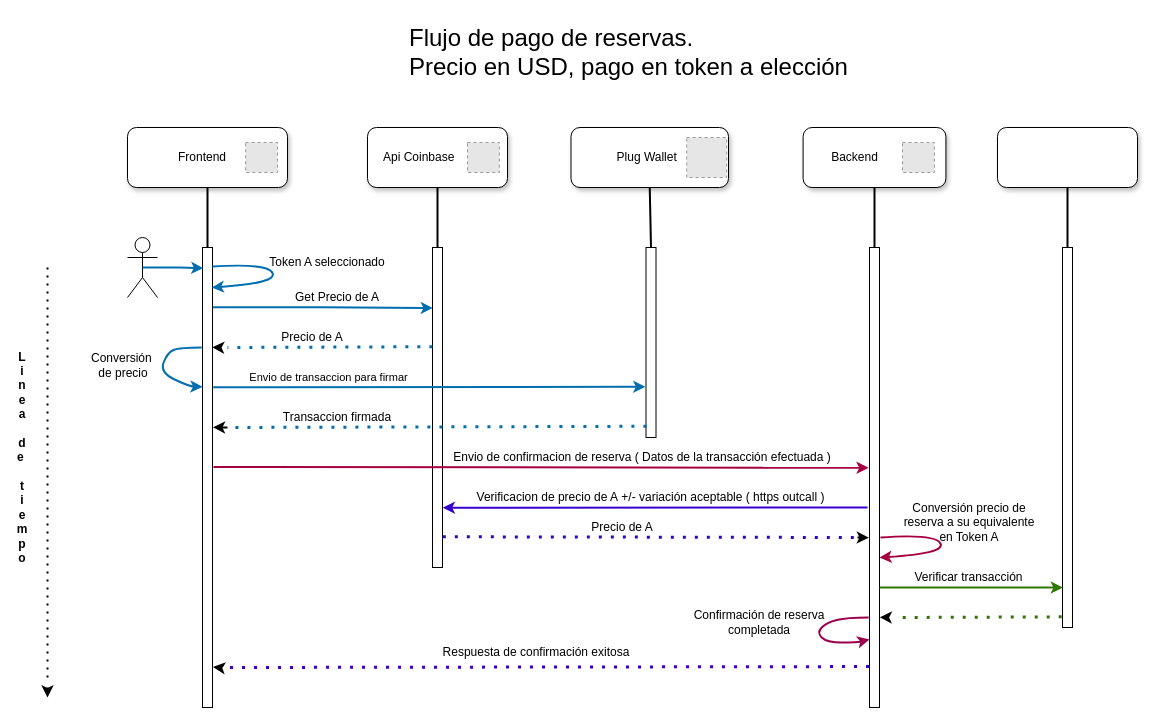
This 1161x725 diagram has some shape labels left out. Grey dashed boxes stand in for pictures. Each missing label, with the centre of its shape:
"Indexer canister Token A" goes at point (1068, 158).
"Usuario" goes at point (142, 267).
